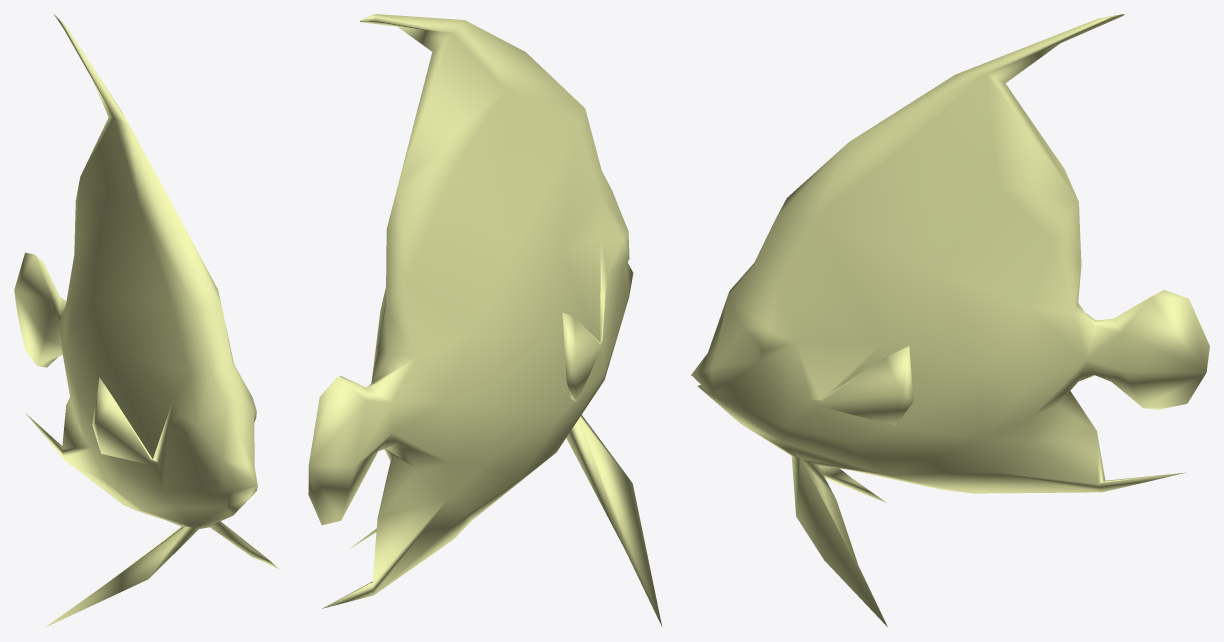
The model's file is angel.glb.
3 renders of one model, left to right at view 1: azimuth 30°, elevation 25°; view 2: azimuth 150°, elevation 25°; view 3: azimuth 270°, elevation 25°, orthographic. The views are drawn at different scales.
Visible parts, largest first — view 1: Object_41; view 2: Object_41; view 3: Object_41.
Part boxes in pixels (bbox=[...]): Object_41: bbox=[14, 14, 278, 627]; Object_41: bbox=[308, 14, 662, 626]; Object_41: bbox=[691, 14, 1209, 626].
Size of the model in its own units: 0.4879 by 1 by 0.8517.
